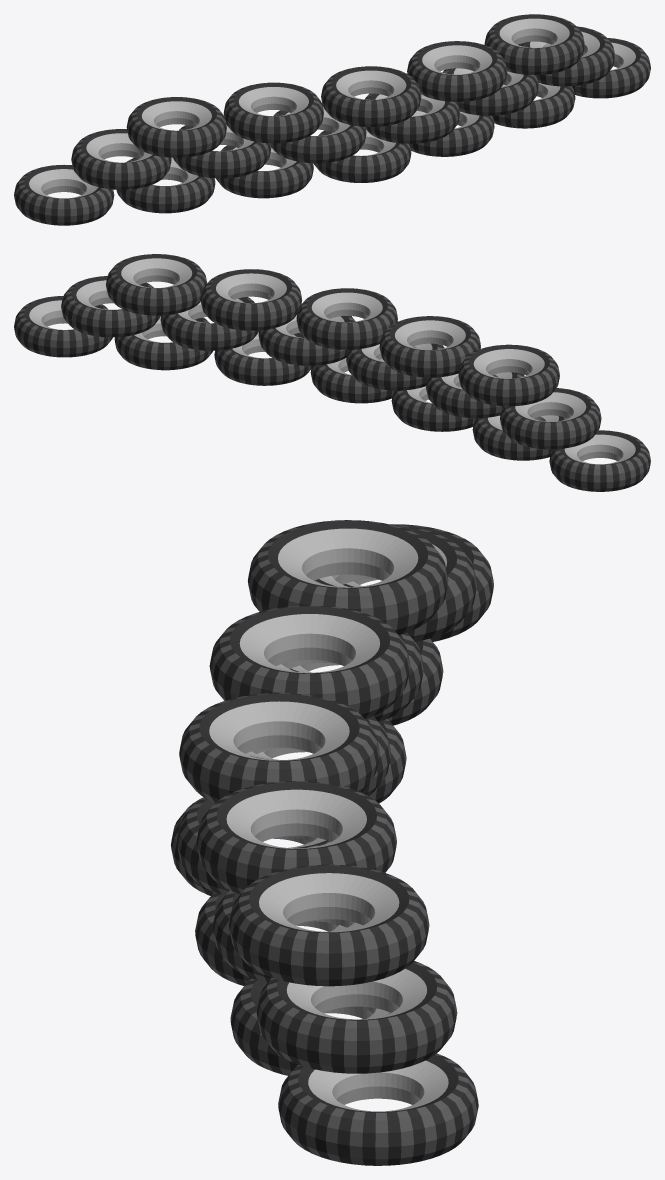
Rendered from tire barricade curved.fbx.
3 renders of one model, top to bottom at view 1: azimuth 30°, elevation 25°; view 2: azimuth 150°, elevation 25°; view 3: azimuth 270°, elevation 25°, orthographic. The views are drawn at different scales.
Parts seen in each view (by area): view 1: Torus.017, Torus.015, Torus.016, Torus.014, Torus.013, Torus.002, Torus.012, Torus.003, Torus, Torus.010, Torus.011, Torus.001 (+6 smaller); view 2: Torus.017, Torus.014, Torus.013, Torus.015, Torus.016, Torus.002, Torus.012, Torus.006, Torus.009, Torus.005, Torus.008, Torus.004 (+6 smaller); view 3: Torus.013, Torus.006, Torus.016, Torus.009, Torus.015, Torus.017, Torus.014, Torus.012, Torus.004, Torus.002, Torus.007, Torus.005 (+5 smaller).
Boxes of the visible parts, left/top/right/bottom form: Torus.017: left=126, top=97, right=226, bottom=157; Torus.015: left=321, top=66, right=421, bottom=126; Torus.016: left=223, top=82, right=323, bottom=143; Torus.014: left=407, top=41, right=507, bottom=101; Torus.013: left=484, top=14, right=584, bottom=75; Torus.002: left=14, top=164, right=114, bottom=225; Torus.012: left=71, top=129, right=171, bottom=189; Torus.003: left=116, top=157, right=215, bottom=213; Torus: left=313, top=130, right=411, bottom=182; Torus.010: left=270, top=107, right=366, bottom=163; Torus.011: left=173, top=125, right=271, bottom=178; Torus.001: left=216, top=145, right=313, bottom=198; Torus.017: left=458, top=344, right=559, bottom=406; Torus.014: left=200, top=269, right=301, bottom=330; Torus.013: left=106, top=254, right=207, bottom=315; Torus.015: left=296, top=288, right=397, bottom=349; Torus.016: left=379, top=316, right=480, bottom=377; Torus.002: left=549, top=430, right=650, bottom=491; Torus.012: left=500, top=388, right=601, bottom=449; Torus.006: left=14, top=296, right=112, bottom=357; Torus.009: left=61, top=276, right=160, bottom=337; Torus.005: left=214, top=332, right=311, bottom=385; Torus.008: left=160, top=297, right=259, bottom=350; Torus.004: left=114, top=316, right=212, bottom=370; Torus.013: left=229, top=864, right=429, bottom=986; Torus.006: left=278, top=1053, right=478, bottom=1165; Torus.016: left=209, top=605, right=410, bottom=718; Torus.009: left=256, top=961, right=457, bottom=1073; Torus.015: left=179, top=693, right=379, bottom=802; Torus.017: left=248, top=520, right=448, bottom=634; Torus.014: left=196, top=781, right=396, bottom=894; Torus.012: left=314, top=524, right=477, bottom=641; Torus.004: left=230, top=978, right=390, bottom=1075; Torus.002: left=343, top=524, right=493, bottom=641; Torus.007: left=176, top=797, right=329, bottom=895; Torus.005: left=195, top=892, right=346, bottom=985.
Bounding box in the file's own units: 1783 × 214 × 403.
